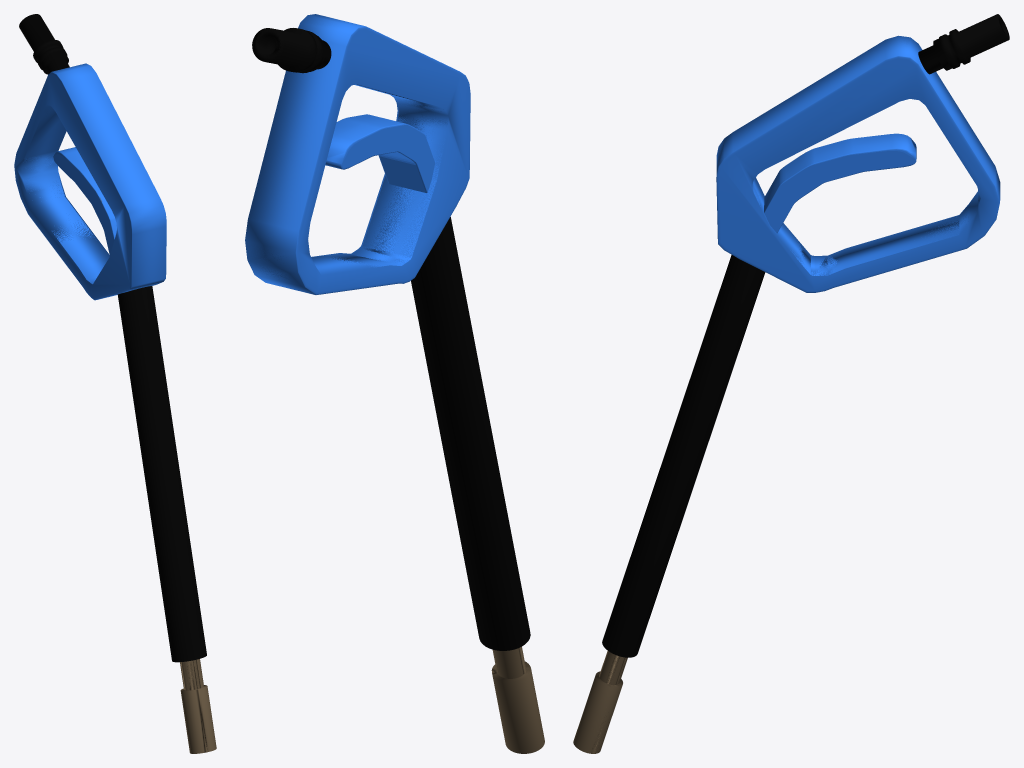
Rendered from Моющий пистолет.fbx.
3 renders of one model, left to right at view 1: azimuth 30°, elevation 25°; view 2: azimuth 150°, elevation 25°; view 3: azimuth 270°, elevation 25°, orthographic. The views are drawn at different scales.
Visible parts, largest first — view 1: Цилиндр.018; view 2: Цилиндр.018; view 3: Цилиндр.018.
Part boxes in pixels (box(x1,y1,x2,y2)): Цилиндр.018: box(14, 14, 216, 753); Цилиндр.018: box(245, 14, 544, 753); Цилиндр.018: box(573, 14, 1009, 753).
Size of the model in its own units: 16.66 by 273 by 147.
